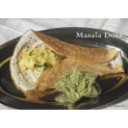dosa: (10, 29, 124, 100)
